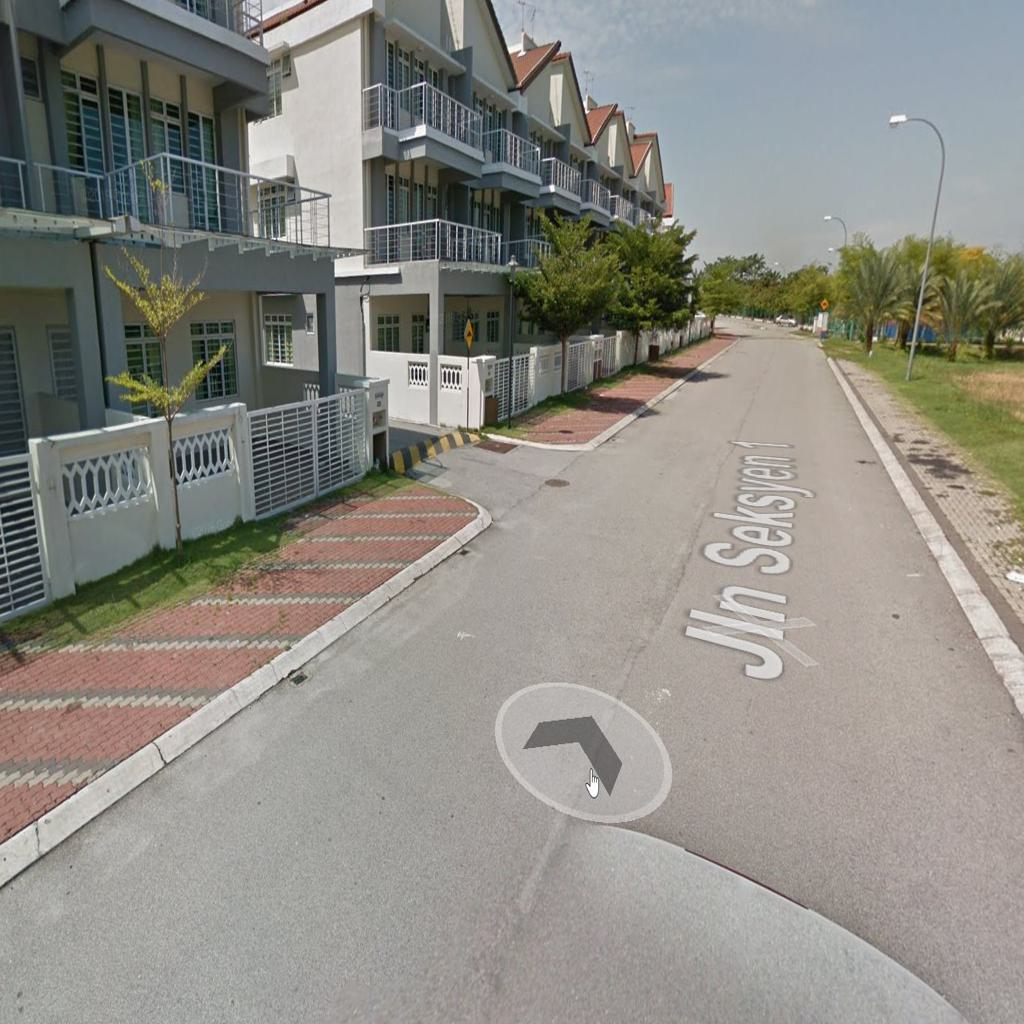Junction: (388, 392, 600, 559)
